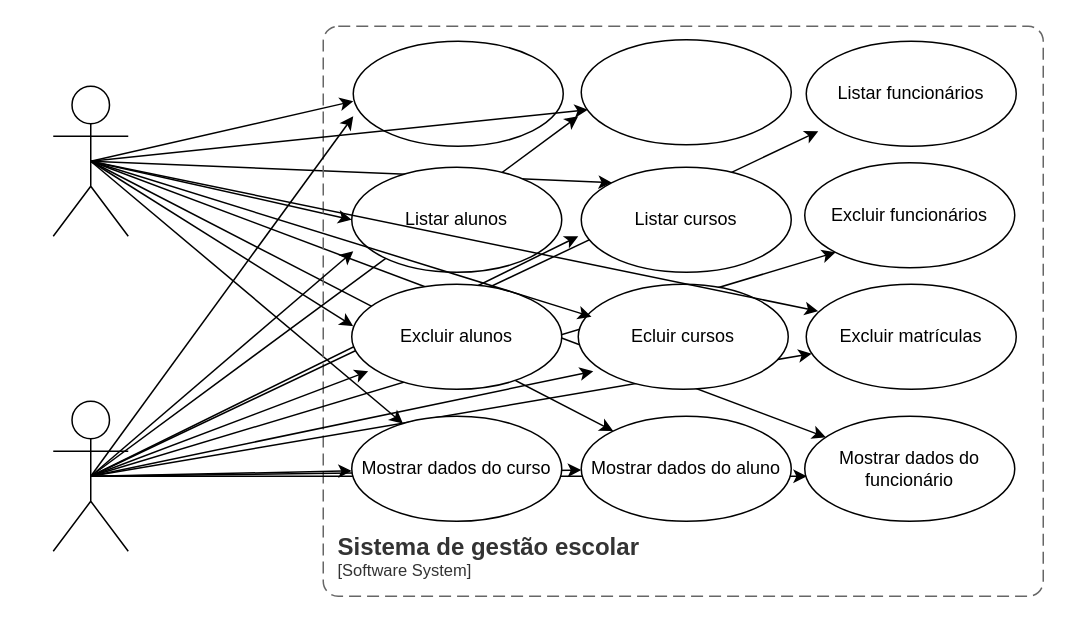
Image size: 1070x623. Some labels were removed from this diagram. The shapes that lost their labels are listed below. From the top down, each one's box as (x1, y1, x2, y2) in pixels, then its label:
(352, 40, 563, 146): Cadastrar alunos
(580, 38, 791, 145): Criar cursos
(52, 85, 128, 236): Colaboradores
(52, 400, 128, 551): Administradores
